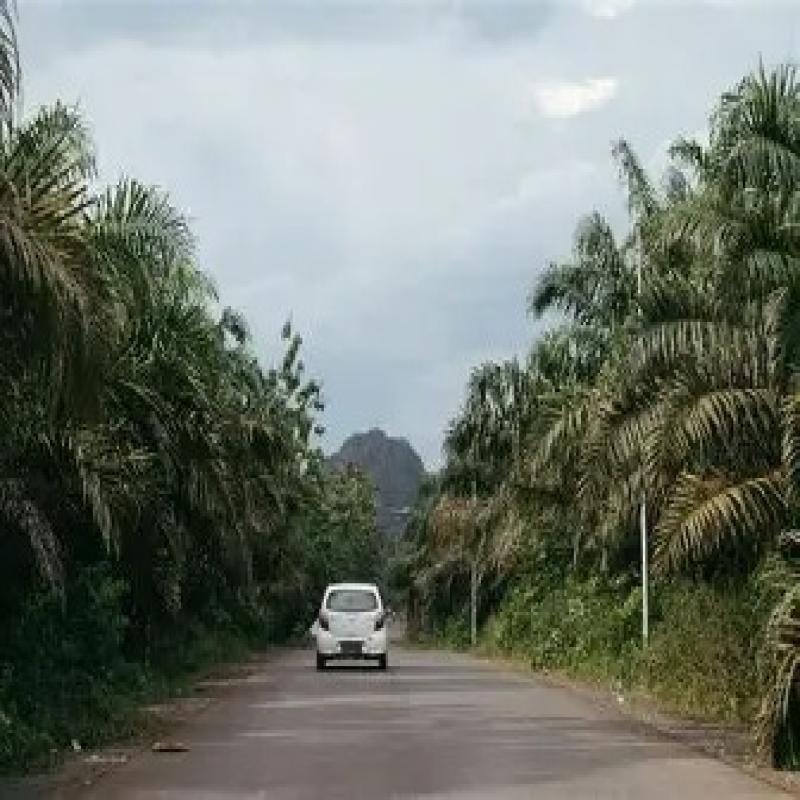license plate on a car: (342, 636, 365, 663)
